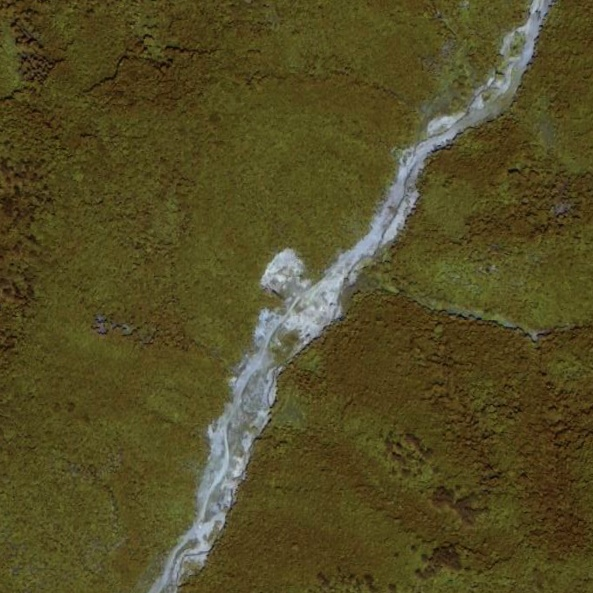slope: (255, 241, 347, 360)
